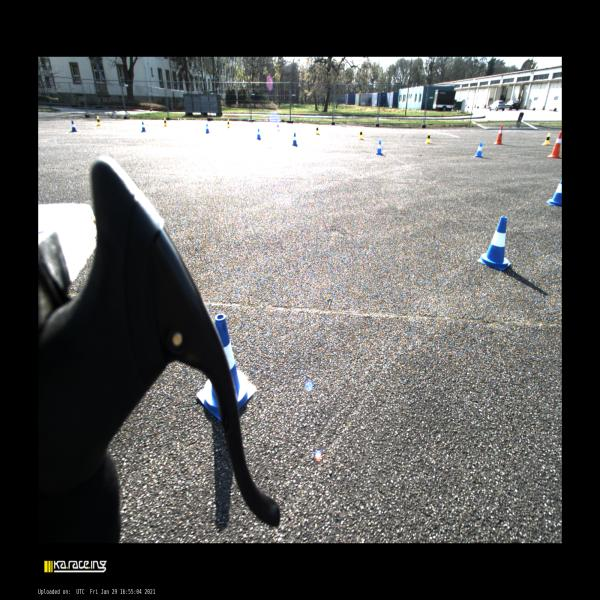blue_cone: (197, 314, 256, 421), (477, 216, 511, 270), (547, 179, 561, 206), (474, 142, 484, 158), (376, 140, 386, 156), (70, 120, 78, 132), (292, 133, 298, 147), (141, 121, 146, 132), (205, 123, 210, 133), (257, 128, 261, 140)
large_orange_cone: (547, 132, 562, 158), (494, 125, 503, 145)
yellow_cone: (424, 132, 432, 144), (542, 133, 550, 145), (358, 130, 365, 140), (315, 125, 320, 135), (96, 116, 101, 126), (163, 117, 168, 127), (276, 121, 280, 131), (227, 119, 230, 128)
